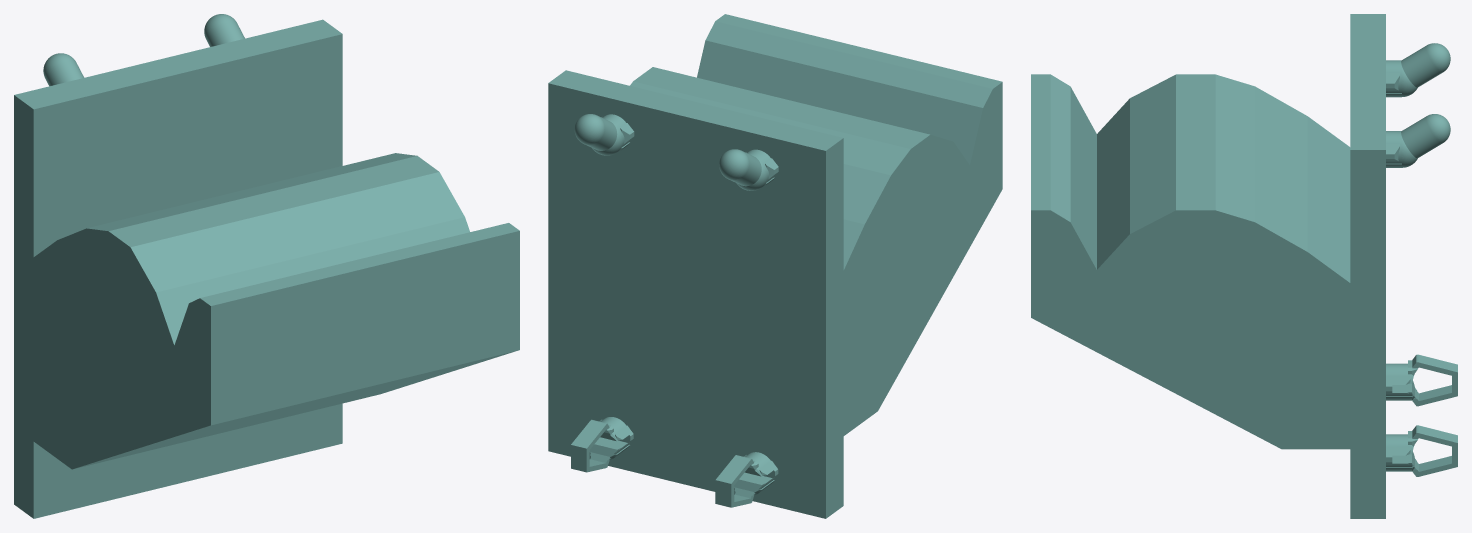
The model's file is installed.glb.
The picture shows the model from 3 angles, left to right: view 1: azimuth 30°, elevation 25°; view 2: azimuth 150°, elevation 25°; view 3: azimuth 270°, elevation 25°; orthographic projection. The views are drawn at different scales.
Visible parts, largest first — view 1: holder; view 2: holder; view 3: holder.
Boxes of the visible parts, x1,y1,x2,y2 form: holder: (14, 14, 519, 518); holder: (548, 14, 1002, 518); holder: (1031, 14, 1457, 518).
Size of the model in its own units: 0.0488 by 0.0621 by 0.0648.
